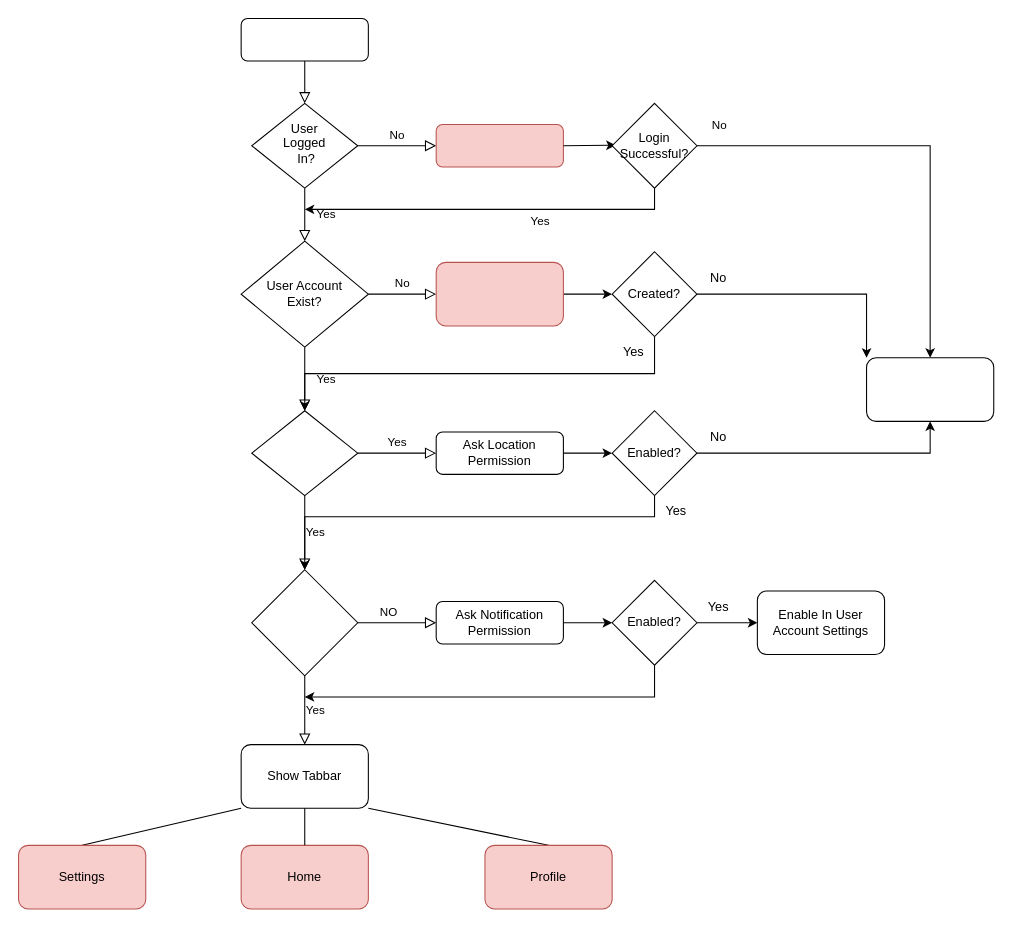
Some shapes in this 1012 by 927 pixel diagram are drawn without their labels. The centre of each missing label's shape, as x and y in pixels:
"Create Account View" goes at point 499,293.
"Error" goes at point 929,389.
"Location Permission Enable?" goes at point 304,453.
"Login View" goes at point 499,145.
"Notification Permission Enable?" goes at point 304,622.
"Start" goes at point 304,39.
